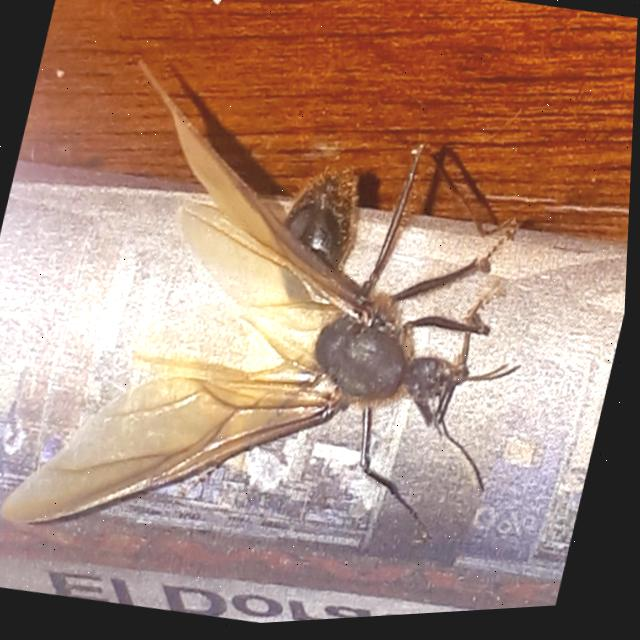Alive-Male-Alate: (0, 32, 586, 618)
